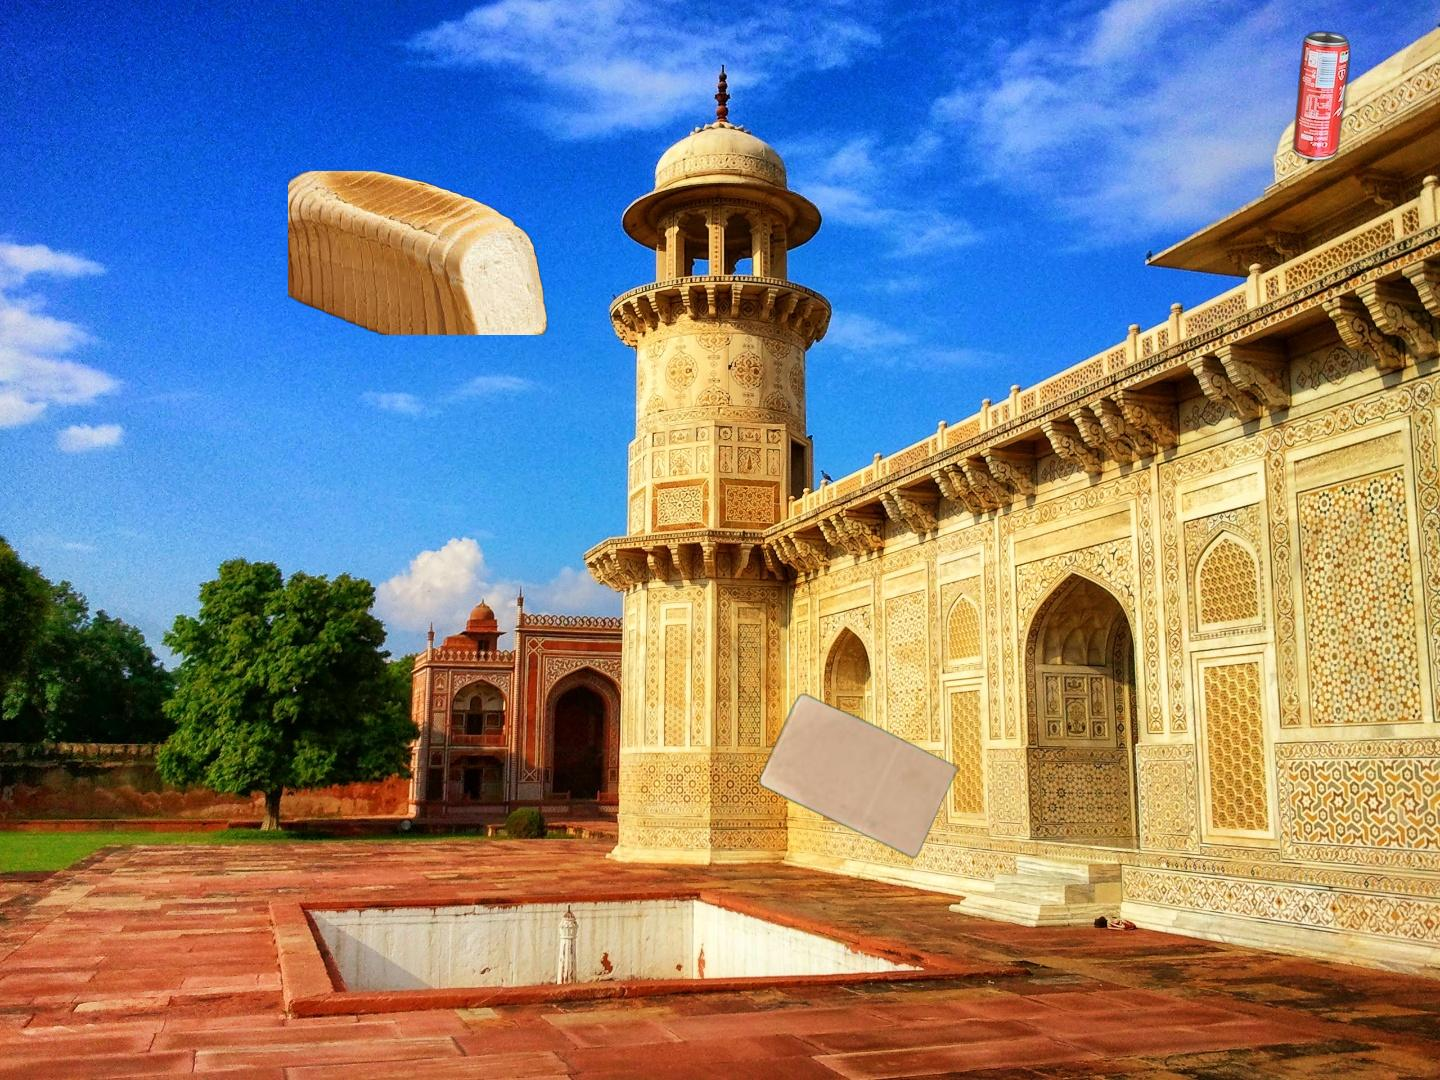biological: (288, 171, 552, 335)
metal-cans: (1288, 26, 1355, 167)
paper-bag: (757, 691, 962, 861)
